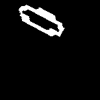chain: (19, 5, 63, 35)
